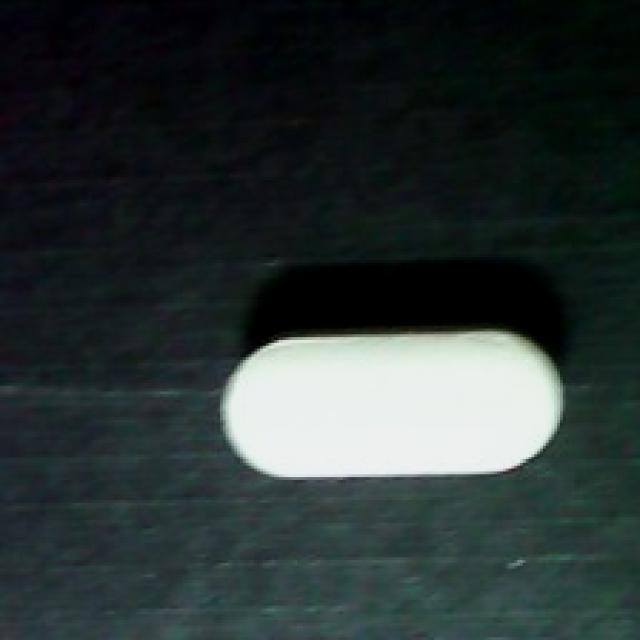no-defect: (220, 314, 569, 491)
